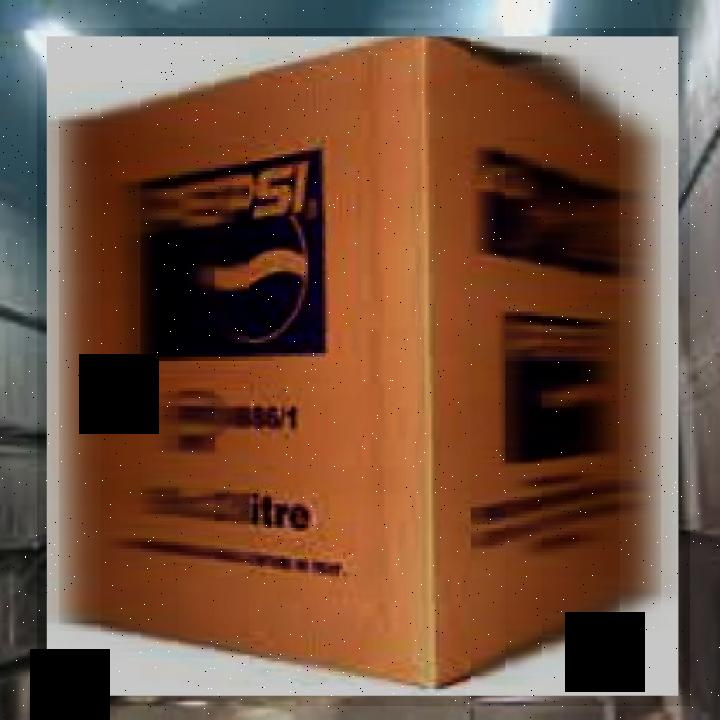box: (37, 28, 690, 706)
